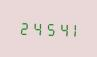five: (42, 19, 53, 37)
four: (30, 19, 41, 36), (54, 20, 65, 37)
one: (66, 20, 77, 38)
two: (18, 18, 29, 36)
